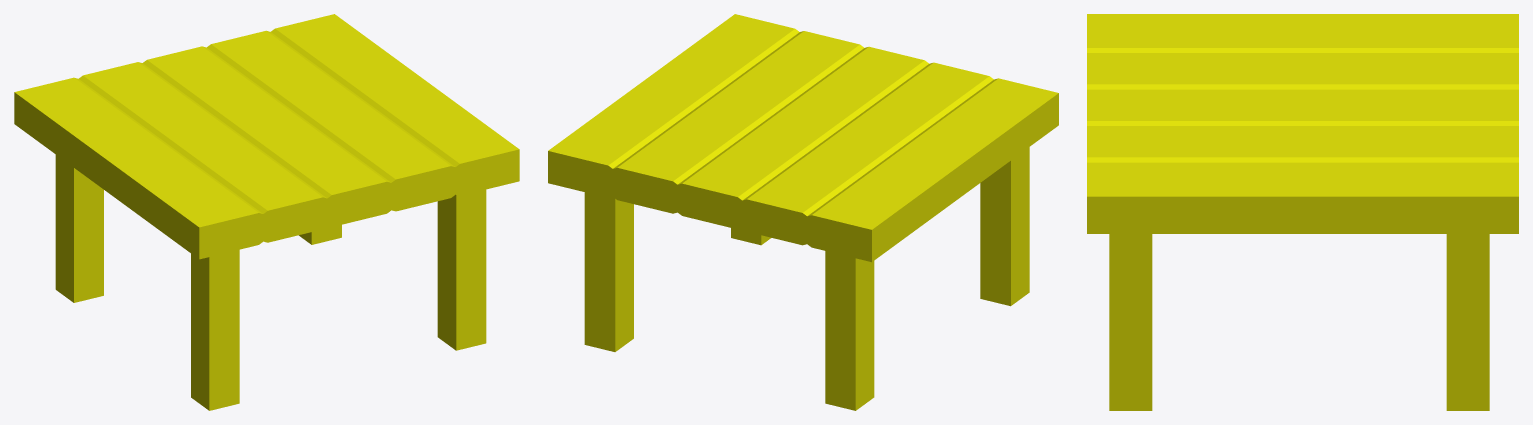
3 renders of one model, left to right at view 1: azimuth 30°, elevation 25°; view 2: azimuth 150°, elevation 25°; view 3: azimuth 270°, elevation 25°, orthographic. The views are drawn at different scales.
Visible parts, largest first — view 1: ban1; view 2: ban1; view 3: ban1.
Part boxes in pixels (x1,y1,x2,y2): ban1: (14,14,519,410); ban1: (548,14,1058,410); ban1: (1087,14,1518,410).
Size of the model in its own units: 1.89 by 1.1 by 1.89.
Materials: 1 (1 with a texture image).
